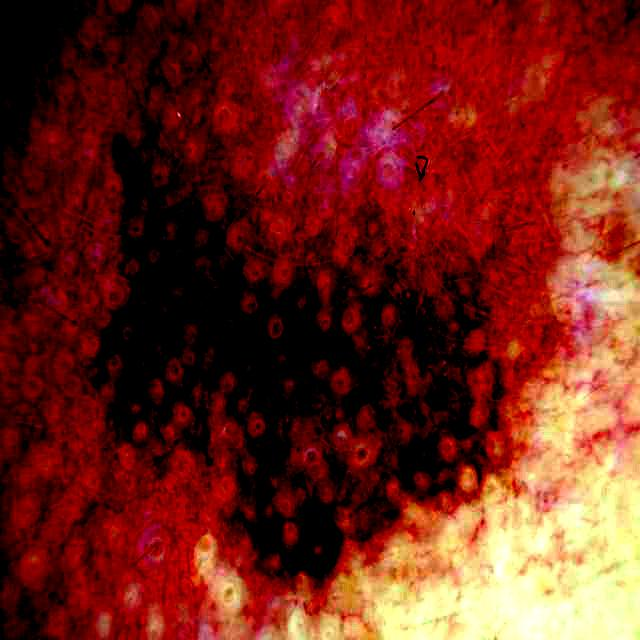AKIEC: (105, 101, 550, 575)
